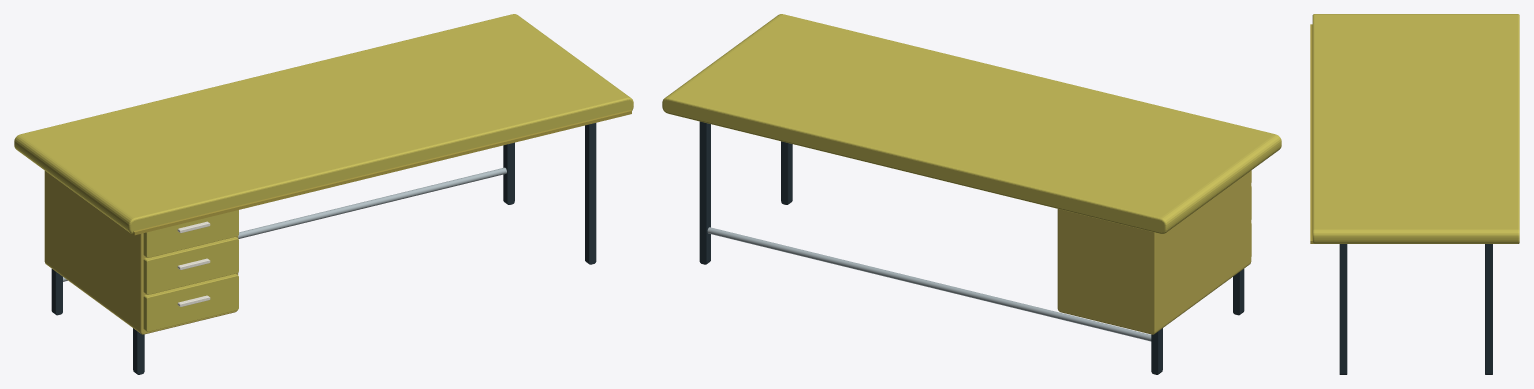
The model's file is workbench.glb.
3 renders of one model, left to right at view 1: azimuth 30°, elevation 25°; view 2: azimuth 150°, elevation 25°; view 3: azimuth 270°, elevation 25°, orthographic. The views are drawn at different scales.
Parts seen in each view (by area): view 1: workbench; view 2: workbench; view 3: workbench.
Part boxes in pixels (x1,y1,x2,y2): workbench: (14,14,633,374); workbench: (662,14,1281,374); workbench: (1310,14,1519,374).
Bounding box in the file's own units: 4.65 × 1.52 × 1.87.
